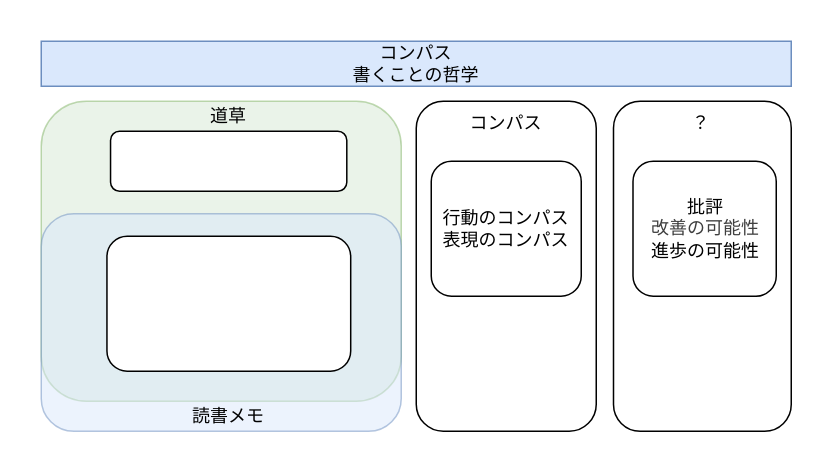
The diagram is 831 pixels wide and 471 high, and some of its shapes have lost their labels. The box of each missing label's shape, as (x1, y1, x2, y2) in pixels:
記憶のログ 思考のログ 感情のログ アイデアのタネ 時代、文化の流れ: (105, 235, 351, 371)
面白いズレ: (109, 130, 347, 191)
